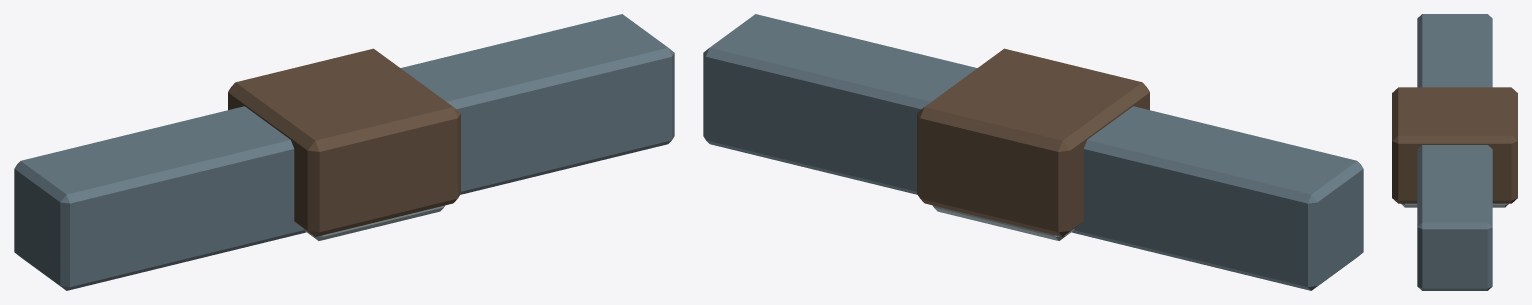
The model's file is architecture-village-beam.lod0.glb.
The picture shows the model from 3 angles, left to right: view 1: azimuth 30°, elevation 25°; view 2: azimuth 150°, elevation 25°; view 3: azimuth 270°, elevation 25°; orthographic projection. The views are drawn at different scales.
Visible parts, largest first — view 1: architecture-village-beam__body; view 2: architecture-village-beam__body; view 3: architecture-village-beam__body.
Boxes of the visible parts, x1=… form: architecture-village-beam__body: x1=14, y1=14, x2=674, y2=290; architecture-village-beam__body: x1=703, y1=14, x2=1363, y2=290; architecture-village-beam__body: x1=1392, y1=14, x2=1517, y2=290.
Bounding box in the file's own units: 2 × 0.33 × 0.5.
